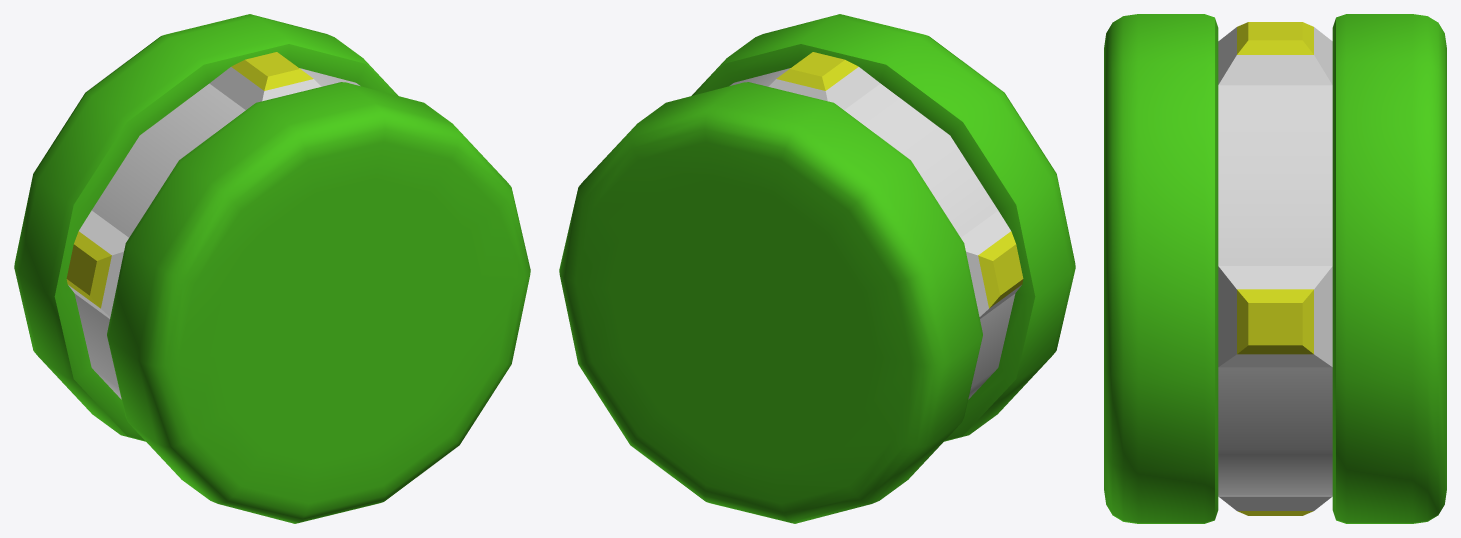
File: Conjunzao.fbx
3 renders of one model, left to right at view 1: azimuth 30°, elevation 25°; view 2: azimuth 150°, elevation 25°; view 3: azimuth 270°, elevation 25°, orthographic. The views are drawn at different scales.
Visible parts, largest first — view 1: Union; view 2: Union; view 3: Union.
Boxes of the visible parts, bbox=[...] form: Union: bbox=[14, 14, 530, 523]; Union: bbox=[559, 14, 1075, 523]; Union: bbox=[1104, 14, 1446, 523].
Bounding box in the file's own units: 0.7616 × 0.7665 × 0.5007.
